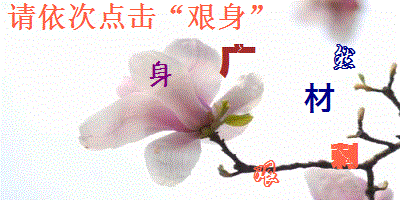result: (187, 1, 246, 32)
text: (219, 42, 256, 78), (301, 80, 335, 116), (329, 141, 361, 171), (250, 160, 282, 188), (147, 58, 174, 90), (332, 43, 358, 72)
